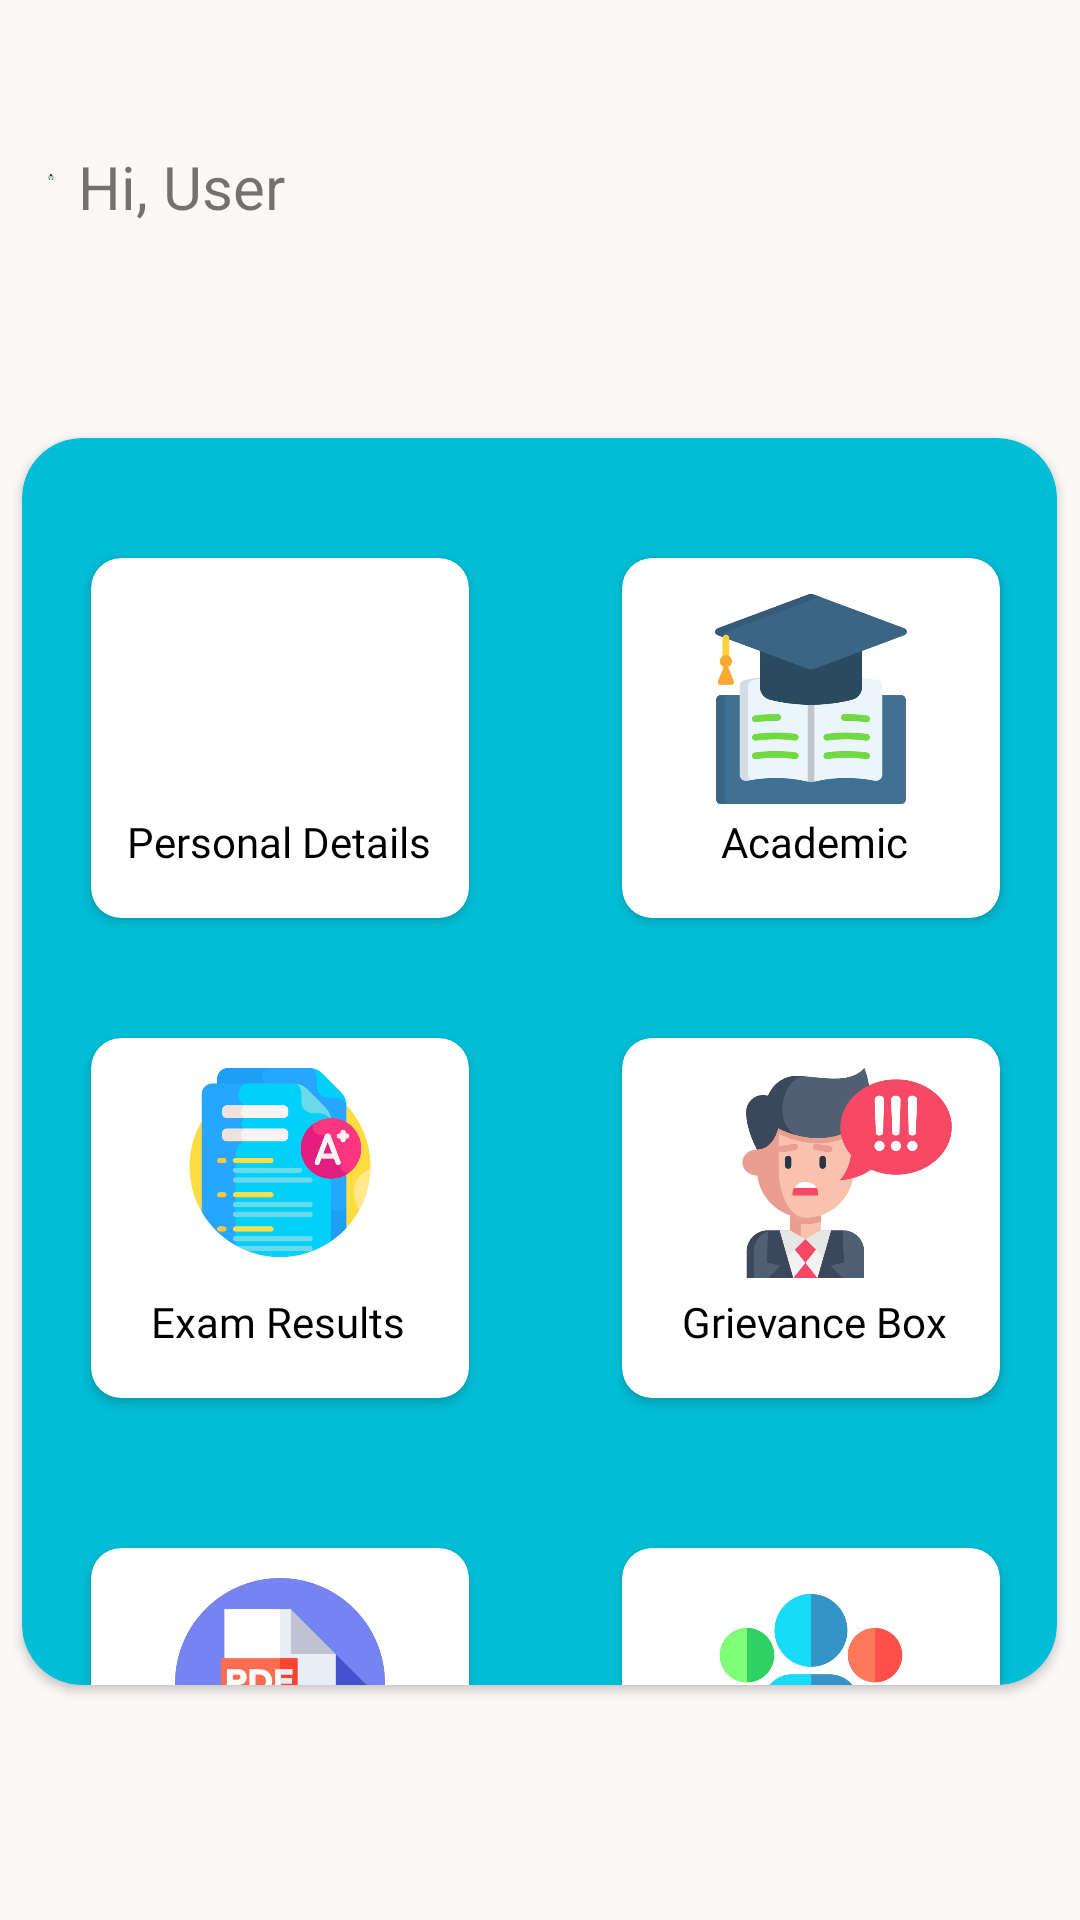

Named icons in this screenshot (1080 x 1920) and their centers, (x,y):
complaint: (847,1173)
